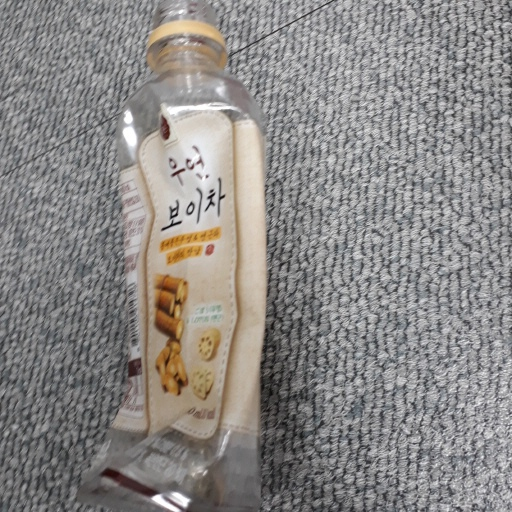Plastic_0: (93, 1, 270, 512)
